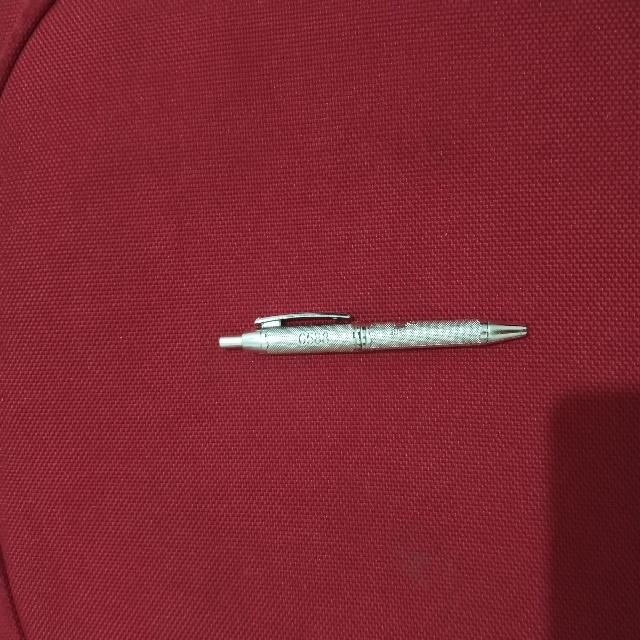signature pen: (219, 312, 526, 353)
